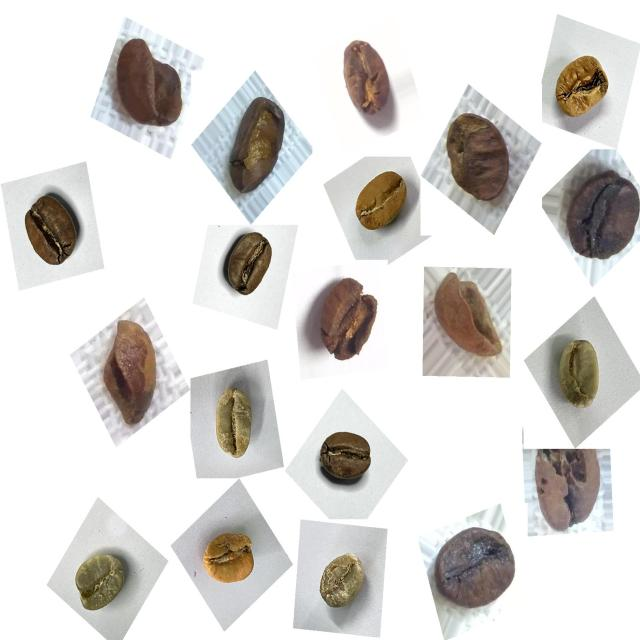bad: (428, 517, 528, 623), (91, 308, 168, 436), (105, 28, 191, 140), (559, 154, 640, 270), (217, 86, 295, 203), (435, 106, 516, 215), (426, 268, 512, 369), (306, 268, 388, 372), (527, 442, 611, 540), (332, 32, 399, 122)
green: (545, 329, 614, 421), (201, 380, 268, 474), (65, 542, 137, 626), (308, 544, 376, 625)
light: (546, 43, 621, 132), (192, 522, 263, 600)
medium: (11, 185, 88, 282), (346, 159, 417, 243), (215, 225, 284, 308), (312, 422, 381, 496)
